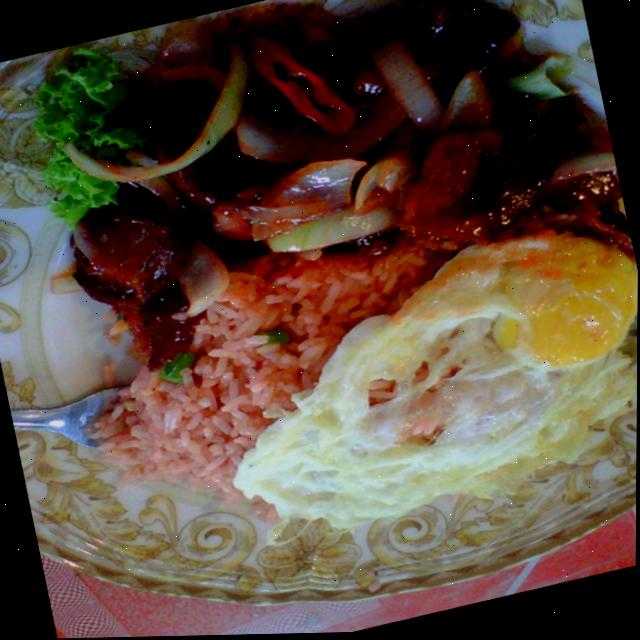牛肉菜式: (48, 0, 640, 606)
